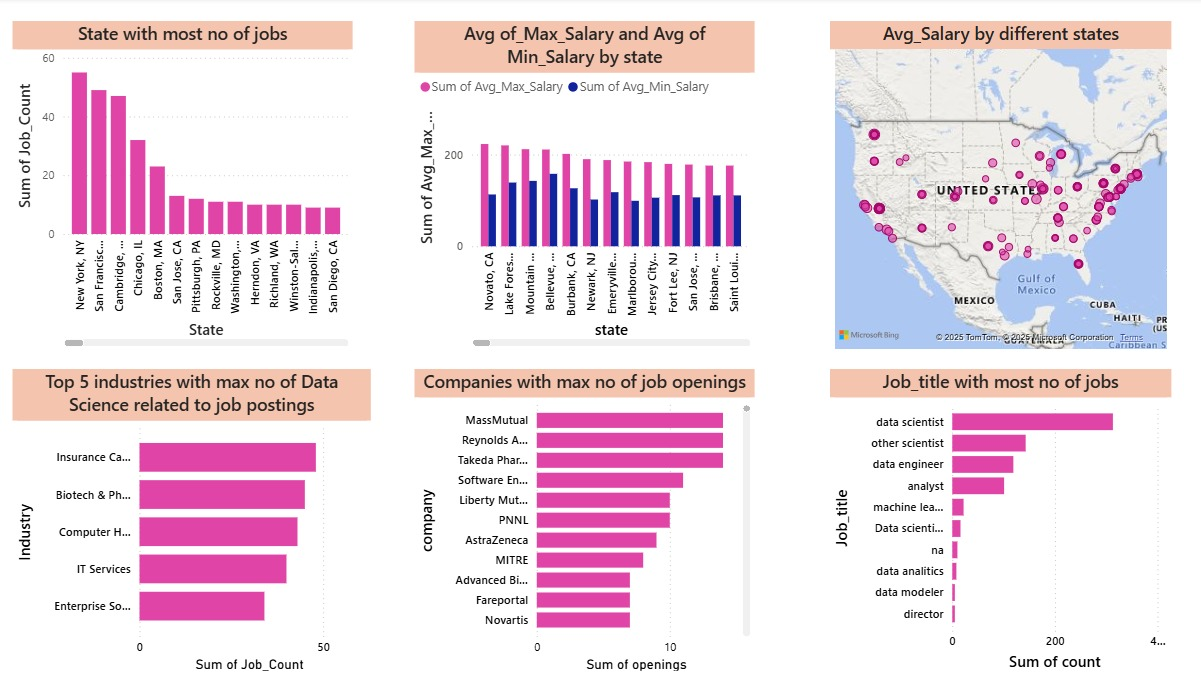

This screenshot's page, from the dashboard's own definition file:
{"tool":"powerbi","page":{"name":"Page 1","canvas":[1280,720],"ordinal":0},"visuals":[{"type":"clusteredColumnChart","title":" State with most no of jobs","fields":{"Y":["Sum(task1-states with most no jobs.Job_Count)"],"Category":["task1-states with most no jobs.State"]},"box":[17.8,24.7,360.9,349.9],"z":0},{"type":"clusteredColumnChart","title":" Avg of_Max_Salary and Avg of Min_Salary by state","fields":{"Category":["task_2 avg min max salary.state"],"Y":["Sum(task_2 avg min max salary.Avg_Max_Salary)","Sum(task_2 avg min max salary.Avg_Min_Salary)"]},"box":[443.2,24.7,360.9,349.9],"z":1000},{"type":"map","title":" Avg_Salary by different states","fields":{"Category":["task_3 avg sal in diff states.state"],"Size":["Sum(task_3 avg sal in diff states.Avg_Salary_k)"]},"box":[885.1,24.7,362.3,352.7],"z":2000},{"type":"barChart","title":"Top 5 industries with max no of Data Science related to job postings","fields":{"Category":["task_4 top2 ind max of data sci.Industry"],"Y":["Sum(task_4 top2 ind max of data sci.Job_Count)"]},"box":[17.8,395.2,380.1,325.2],"z":3000},{"type":"clusteredBarChart","title":"Companies with max no of job openings","fields":{"Category":["task_5 comapny with max no job openings.company"],"Y":["Sum(task_5 comapny with max no job openings.openings)"]},"box":[443.2,395.2,360.9,325.2],"z":4000},{"type":"barChart","title":"Job_title with most no of jobs","fields":{"Category":["task_6 job titles with most no jobs.Job_title"],"Y":["Sum(task_6 job titles with most no jobs.count)"]},"box":[885,395,362,325],"z":5000}]}

Visuals, with their boxes in screenshot pixels (x1, y1, x2, y2), scaled from the page's 1280x720 canvas onto the 1201x676 screenshot:
" State with most no of jobs" clusteredColumnChart: x1=17 y1=23 x2=355 y2=352
" Avg of_Max_Salary and Avg of Min_Salary by state" clusteredColumnChart: x1=416 y1=23 x2=754 y2=352
" Avg_Salary by different states" map: x1=830 y1=23 x2=1170 y2=354
"Top 5 industries with max no of Data Science related to job postings" barChart: x1=17 y1=371 x2=373 y2=675
"Companies with max no of job openings" clusteredBarChart: x1=416 y1=371 x2=754 y2=675
"Job_title with most no of jobs" barChart: x1=830 y1=371 x2=1170 y2=675
